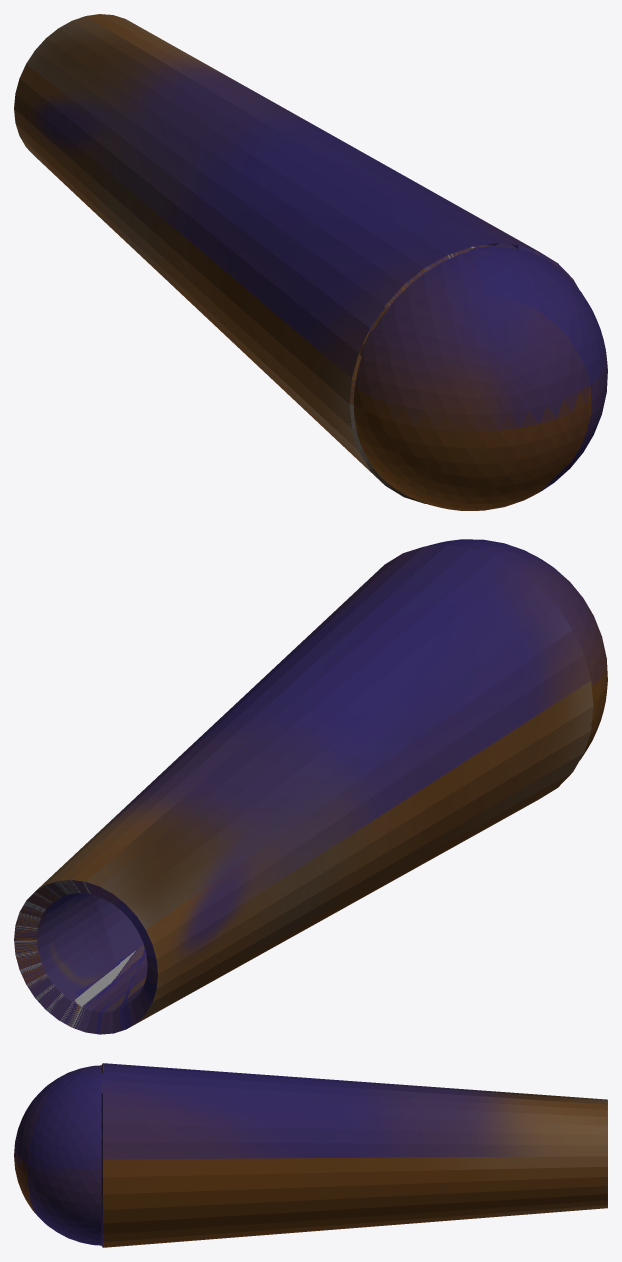
File: cannon.obj
The picture shows the model from 3 angles, top to bottom: view 1: azimuth 30°, elevation 25°; view 2: azimuth 150°, elevation 25°; view 3: azimuth 270°, elevation 25°; orthographic projection. The views are drawn at different scales.
Parts seen in each view (by area): view 1: Icosphere; view 2: Icosphere; view 3: Icosphere.
Boxes of the visible parts, x1,y1,x2,y2 form: Icosphere: [14, 14, 607, 510]; Icosphere: [14, 539, 607, 1034]; Icosphere: [14, 1063, 607, 1247].
Bounding box in the file's own units: 2.42 × 2.42 × 7.76.
